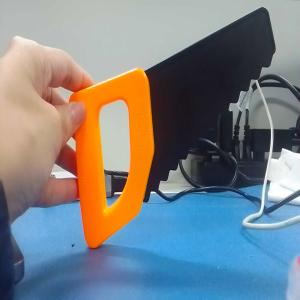serrote: (79, 6, 277, 250)
